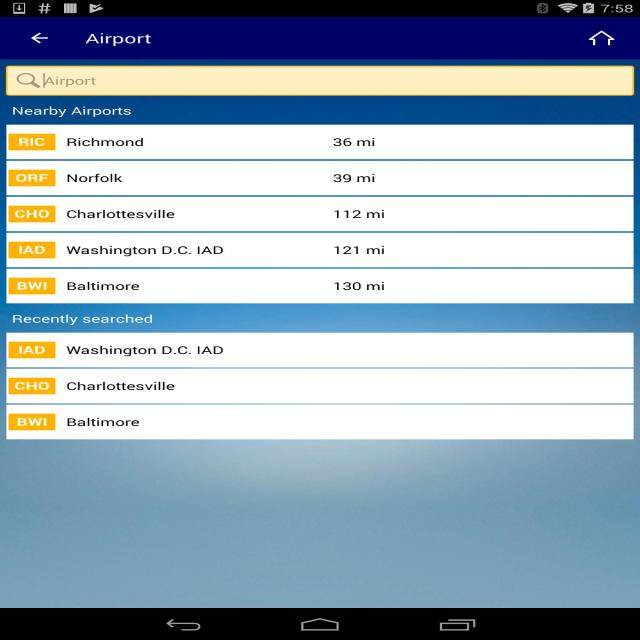button: (8, 233, 633, 267), (8, 196, 631, 230), (9, 268, 632, 302), (9, 332, 631, 366), (8, 125, 633, 158), (7, 161, 631, 194), (6, 370, 632, 402), (9, 405, 631, 437), (581, 28, 625, 50), (25, 26, 55, 49)
field: (9, 66, 634, 96)
heading: (11, 312, 155, 328), (10, 104, 134, 120), (76, 32, 156, 50)
label: (40, 74, 101, 90)
text: (62, 243, 224, 257), (66, 344, 228, 356), (66, 208, 176, 221), (67, 381, 178, 393), (62, 135, 148, 150), (63, 415, 147, 428), (65, 280, 143, 293), (334, 242, 388, 260), (67, 172, 128, 186), (334, 279, 389, 294), (332, 208, 388, 222), (333, 173, 378, 185), (14, 135, 51, 149), (16, 279, 51, 293), (331, 138, 378, 148), (14, 208, 51, 220), (15, 343, 48, 356), (16, 172, 47, 184), (16, 244, 47, 256), (15, 416, 48, 427), (15, 381, 50, 391)
